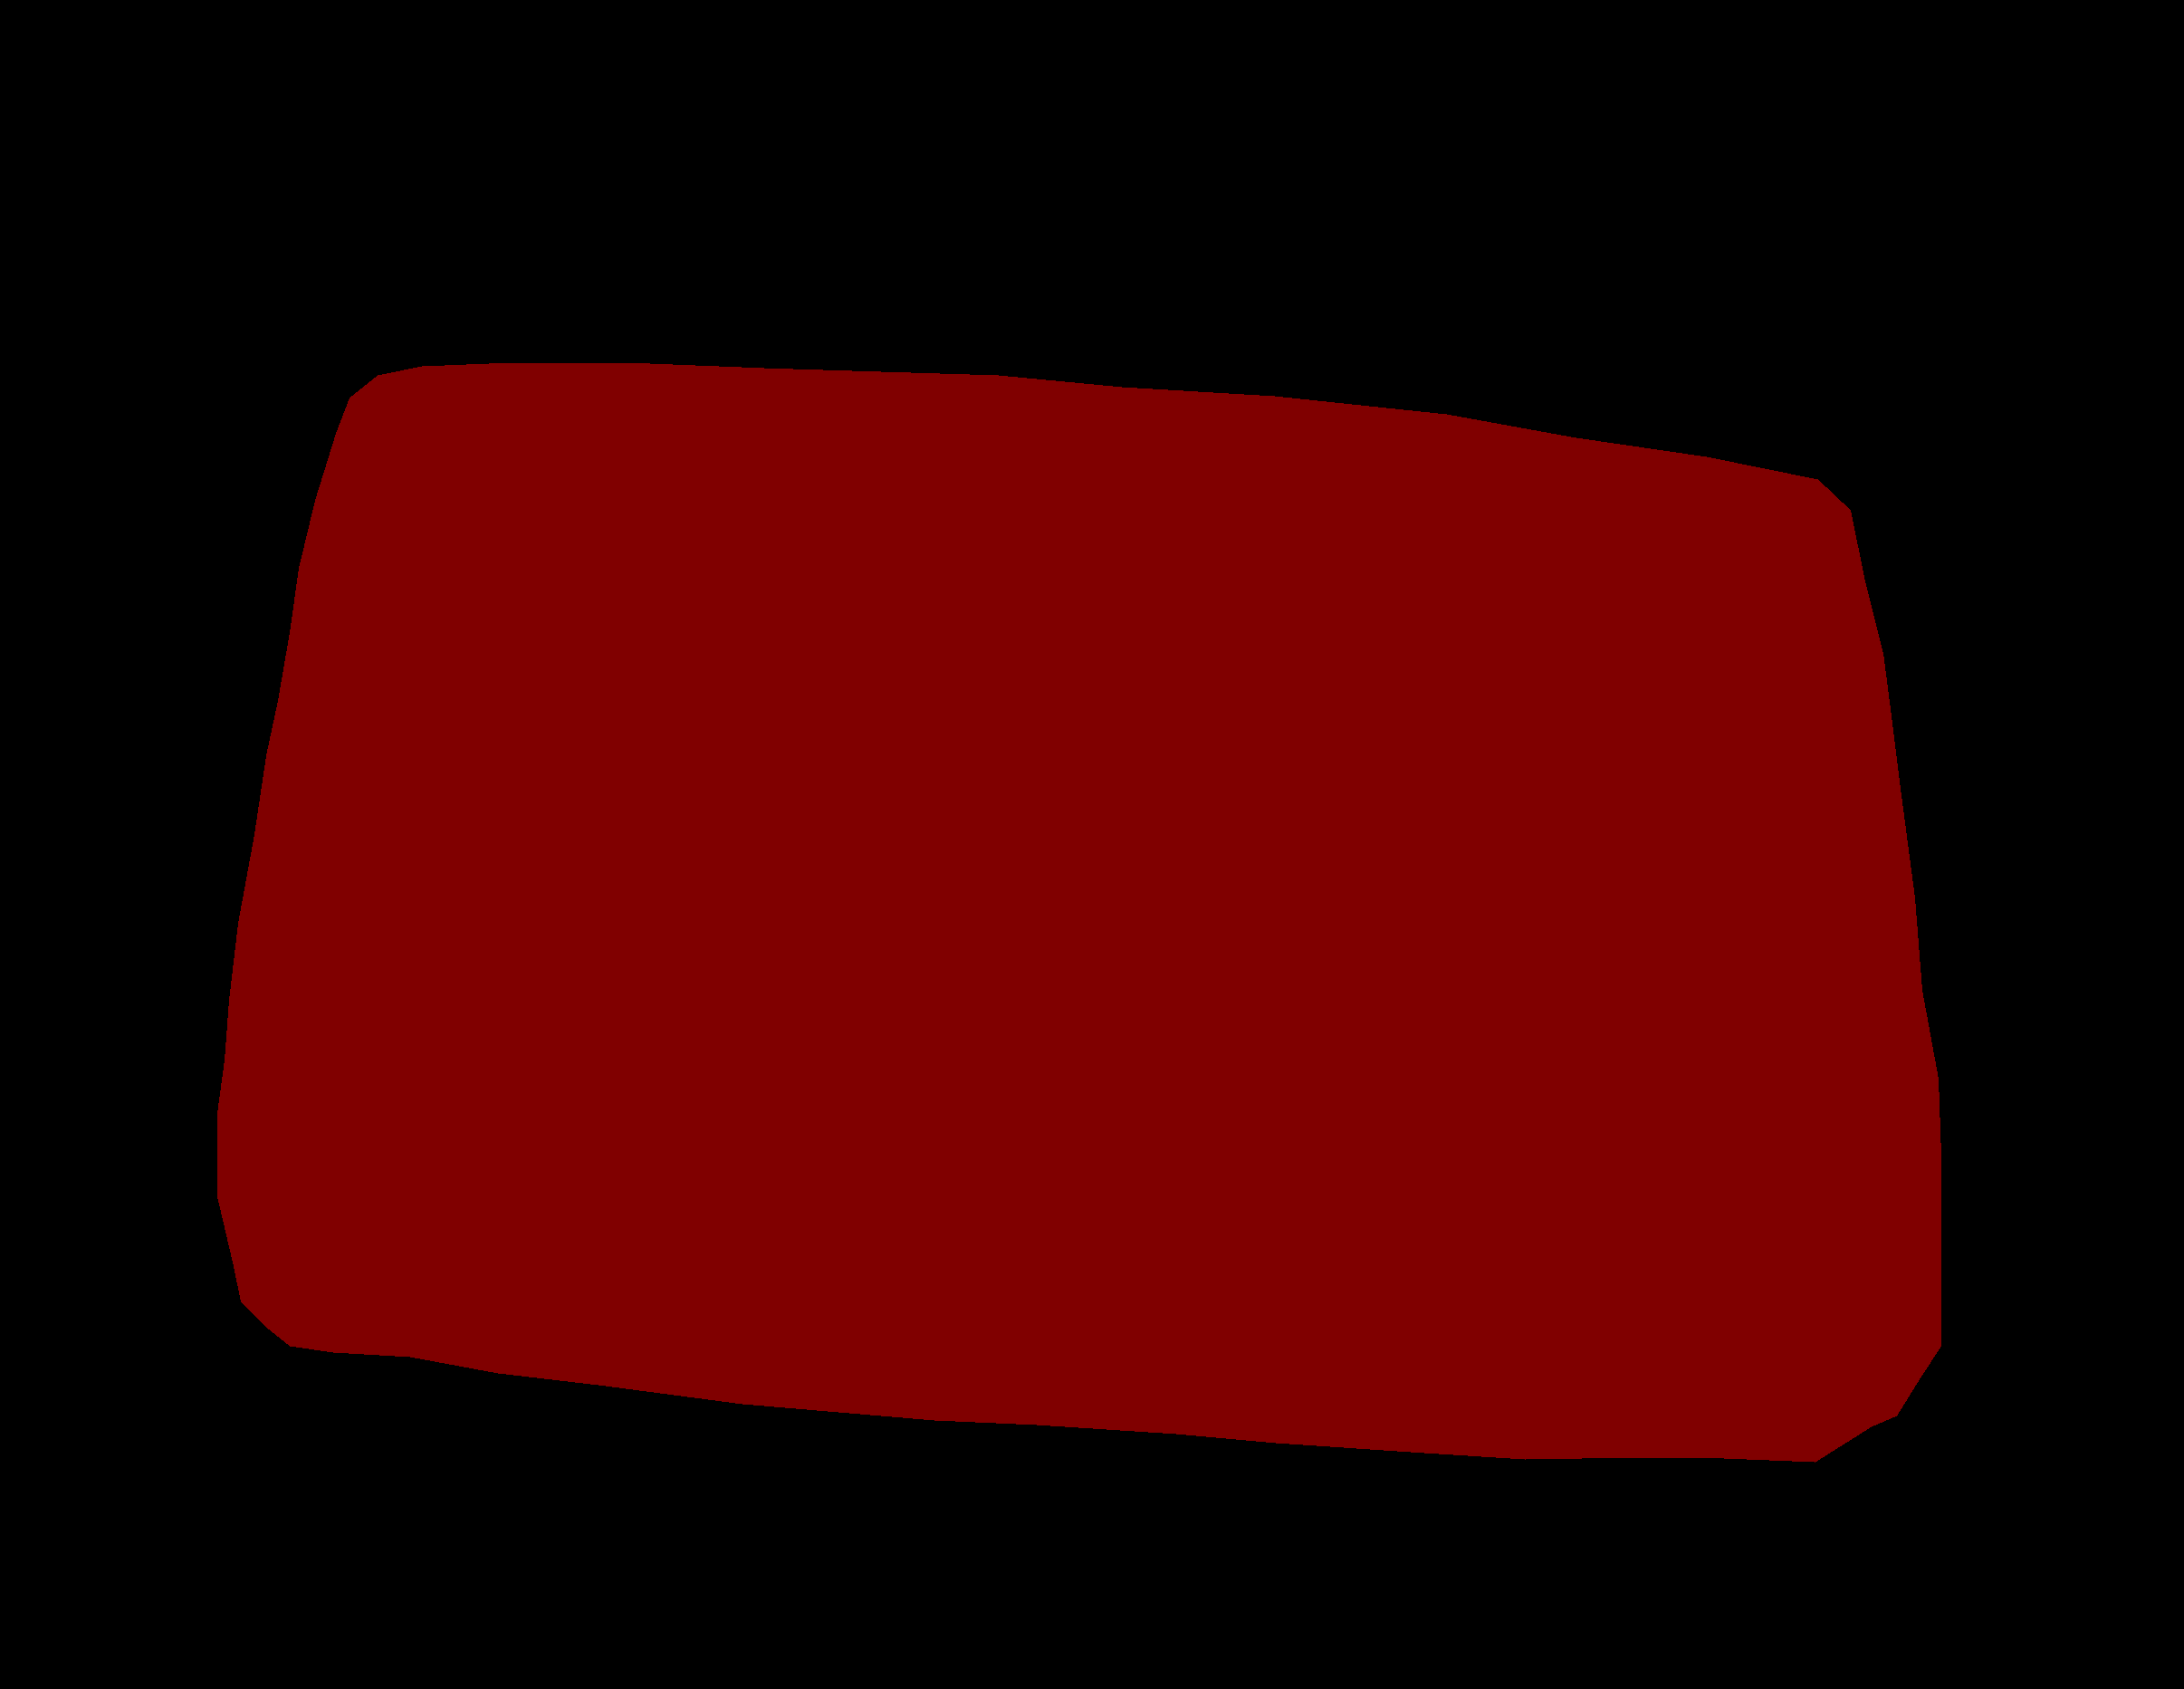sign: (218, 363, 1941, 1462)
